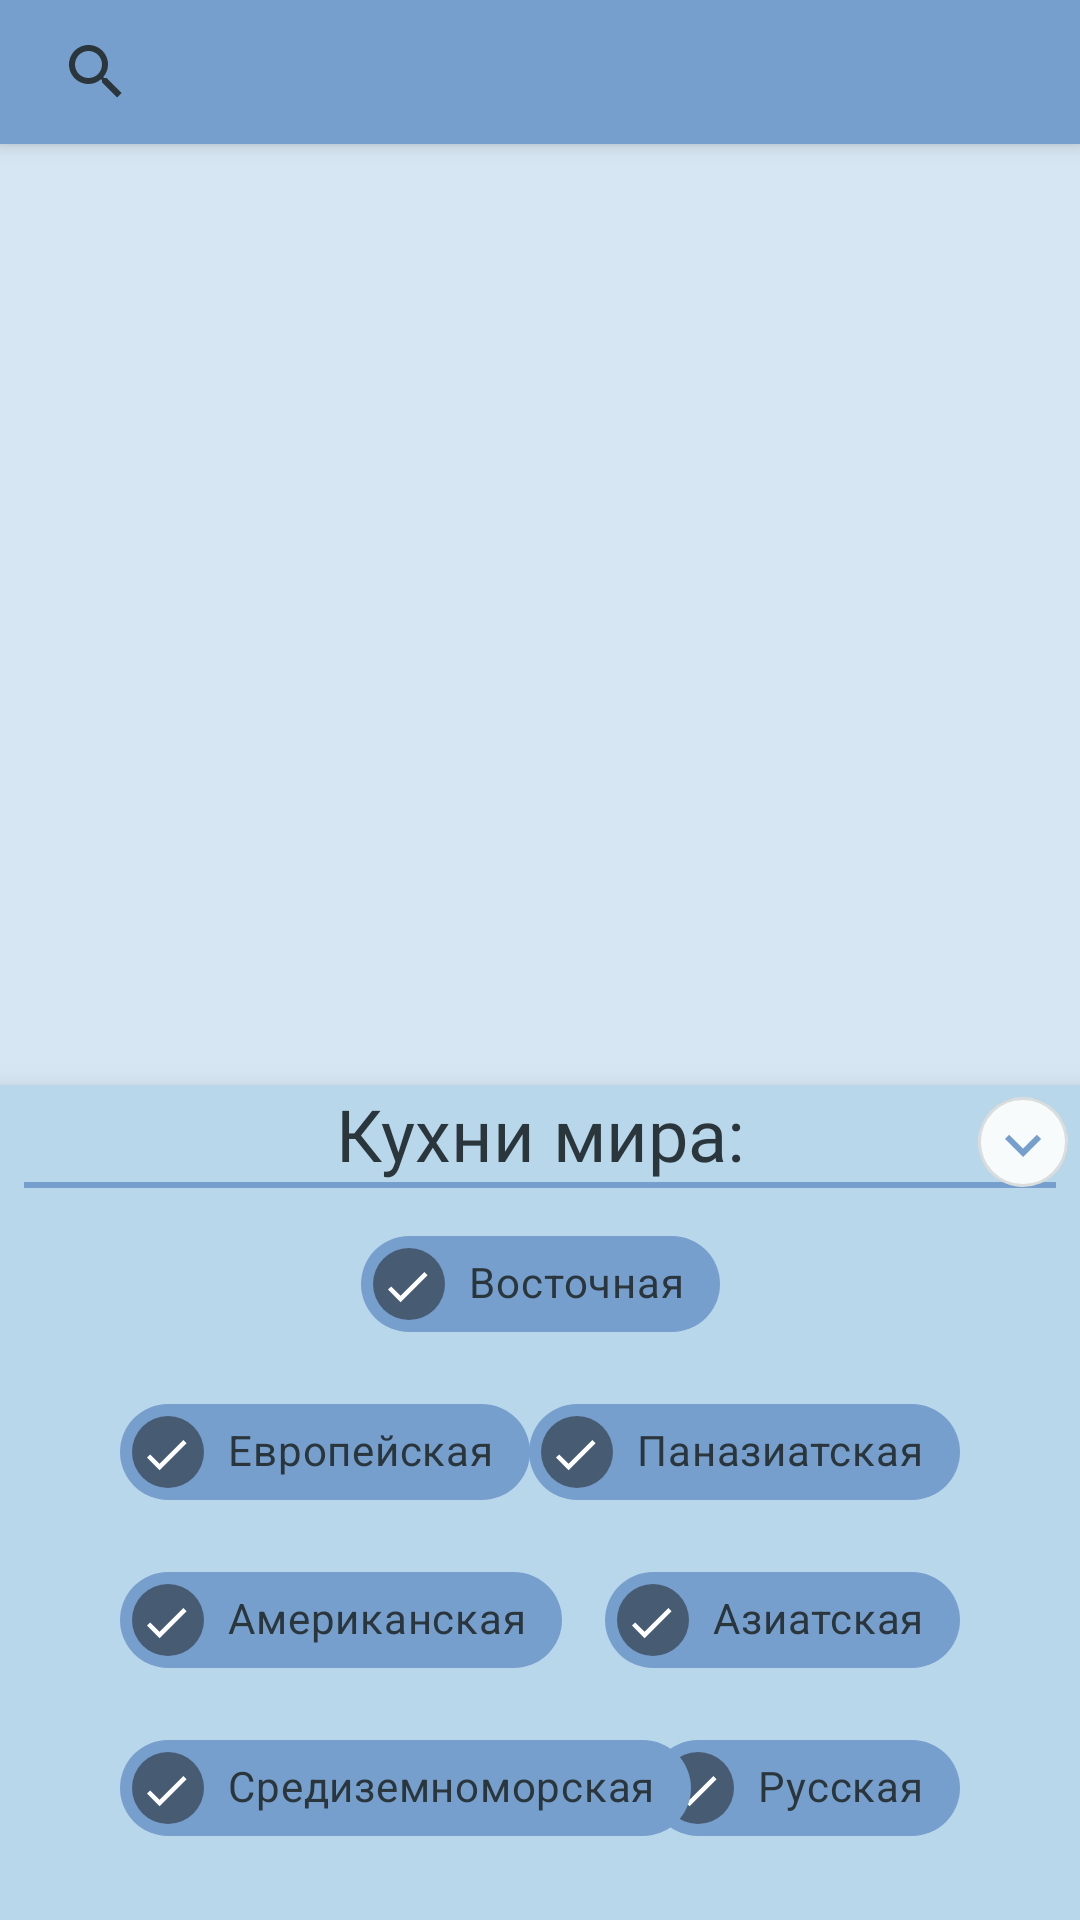

Icon click points for this 1080x1920 phone screenshot, format [x,y]:
down arrow: [1023,1142]
